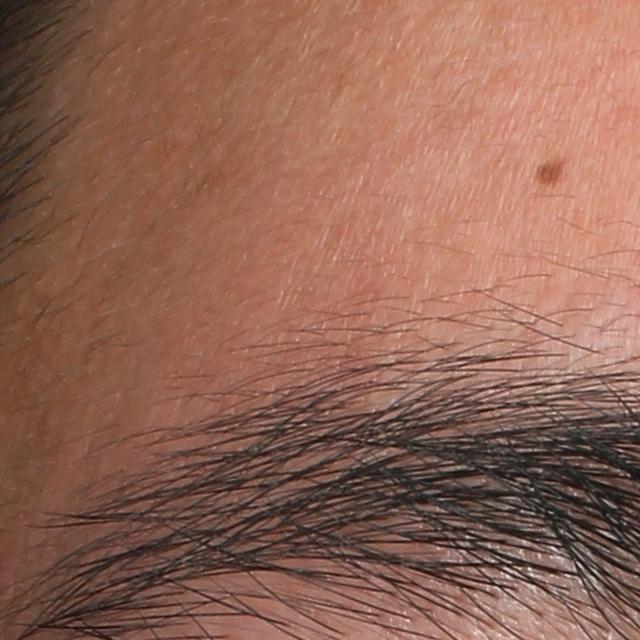nevus: (527, 155, 570, 193)
